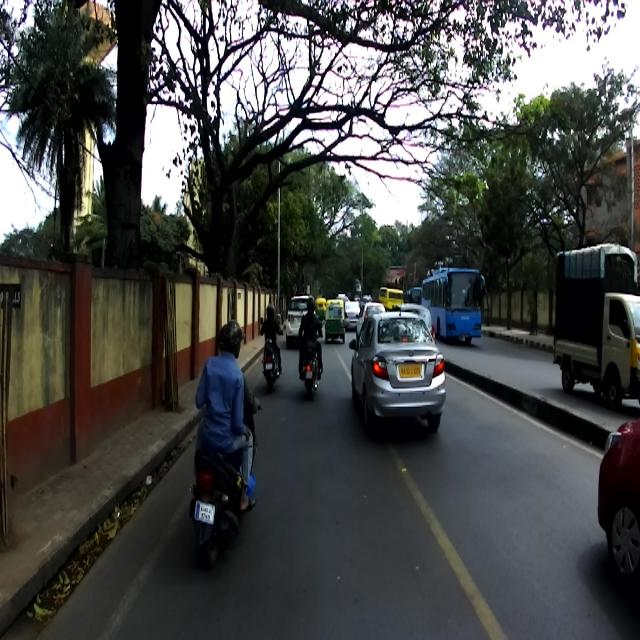Car_Honda: (351, 300, 448, 439)
bus: (420, 265, 484, 346)
motorcycle_RoyalEnfield: (297, 313, 322, 395)
motorcycle_bajaj: (260, 315, 286, 392)
scooter: (186, 395, 262, 569)
truck: (554, 242, 640, 403)
